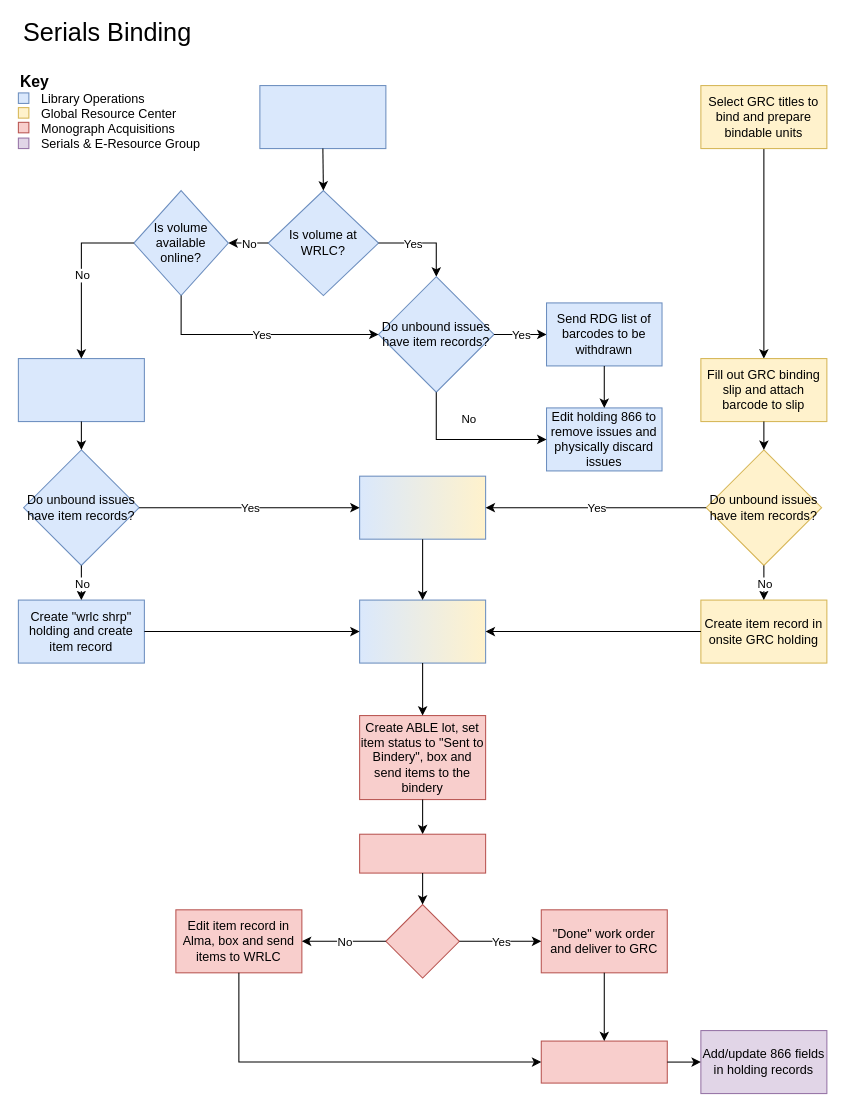
The diagram is 845 pixels wide and 1112 high, and some of its shapes have lost their labels. The box of each missing label's shape, as (x1, y1, x2, y2) in pixels:
Bind items in Alma and edit item record: (359, 475, 486, 539)
Deliver physical issues and binding slips to MonoAcq: (359, 599, 486, 663)
Fill out stacks binding slip and attach barcode to slip: (17, 358, 144, 422)
Forward bindery and ABLE slips to Qali: (540, 1040, 667, 1083)
Is item GRC?: (385, 904, 459, 978)
Select titles to bind and prepare bindable units: (259, 85, 386, 149)
Unbox bound items and attach barcodes: (359, 833, 486, 873)
